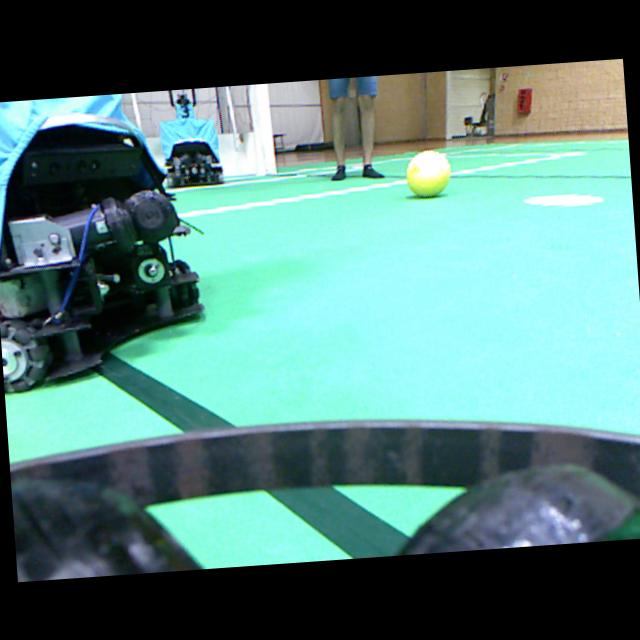ball: (406, 150, 450, 196)
goal: (249, 83, 275, 174)
